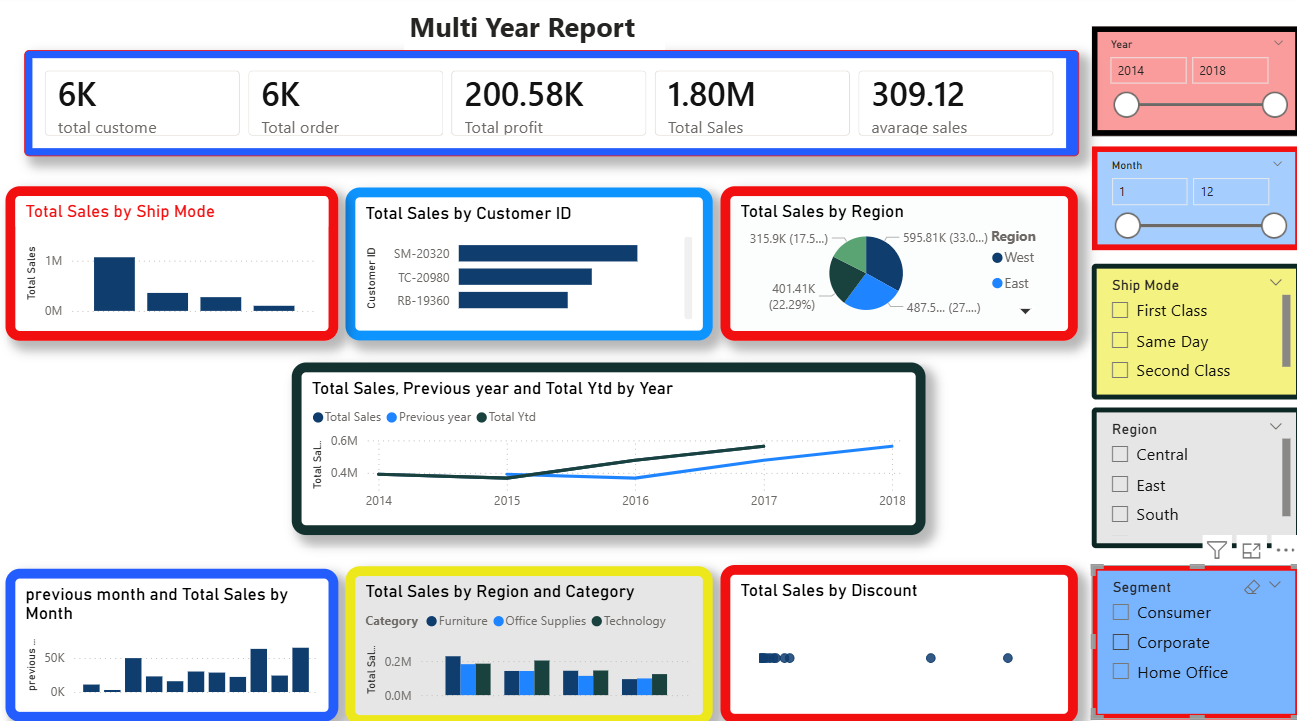

This screenshot's page, from the dashboard's own definition file:
{"tool":"powerbi","page":{"name":"Page 1","canvas":[1280,720],"ordinal":0},"visuals":[{"type":"cardVisual","fields":{"Data":["Fact Sales.total custome","Fact Sales.Total order","Fact Sales.Total profit","Fact Sales.Total Sales","Fact Sales.avarage sales"]},"box":[30.2,53.5,1031.9,104.3],"z":0},{"type":"slicer","fields":{"Values":["Dim Calendar.Year"]},"box":[1074.4,30.2,205.8,107],"z":1000},{"type":"slicer","fields":{"Values":["Dim Calendar.Month"]},"box":[1074.4,148.2,205.8,101.5],"z":2000},{"type":"slicer","fields":{"Values":["Dim-Custom.Region"]},"box":[1074.4,403.4,205.8,137.2],"z":3000},{"type":"slicer","fields":{"Values":["Dim-Custom.Segment"]},"box":[1074.4,557.1,205.8,150.9],"z":4000},{"type":"slicer","fields":{"Values":["Fact Sales.Ship Mode"]},"box":[1074.4,263.5,205.8,133.1],"z":5000},{"type":"textbox","box":[402.1,6.9,255.2,46.7],"z":6000},{"type":"lineChart","fields":{"Y":["Fact Sales.Total Sales","Fact Sales.Previous year","Fact Sales.Total Ytd"],"Category":["Dim Calendar.Date.Variation.Date Hierarchy.Year"]},"box":[292.3,359.5,620.2,168.8],"z":7000},{"type":"clusteredBarChart","fields":{"Category":["Dim-Custom.Customer ID"],"Y":["Fact Sales.Total Sales"]},"box":[344.4,188,359.5,149.6],"z":8000},{"type":"lineStackedColumnComboChart","fields":{"Category":["Dim Calendar.Date.Variation.Date Hierarchy.Month"],"Y":["Fact Sales.previous month"]},"box":[12.3,561.2,325.2,149.6],"z":9000},{"type":"clusteredColumnChart","fields":{"Category":["Dim-Custom.Region"],"Series":["Dim-Product.Category"],"Y":["Fact Sales.Total Sales"]},"box":[344.4,558.5,359.5,155.1],"z":10000},{"type":"columnChart","fields":{"Category":["Fact Sales.Ship Mode"],"Y":["Fact Sales.Total Sales"]},"box":[12.3,186.6,325.2,150.9],"z":11000},{"type":"scatterChart","fields":{"Category":["Fact Sales.Discount"],"X":["Fact Sales.Total Sales"]},"box":[712.2,557.1,349.9,155.1],"z":12000},{"type":"pieChart","fields":{"Category":["Dim-Custom.Region"],"Y":["Fact Sales.Total Sales"]},"box":[712.2,186.6,349.9,150.9],"z":13000}]}

Visuals, with their boxes in screenshot pixels (x1, y1, x2, y2), scaled from the page's 1280x720 canvas onto the 1297x721 screenshot:
cardVisual - Fact Sales.total custome x Fact Sales.Total order: 31/54/1076/158
slicer - Dim Calendar.Year: 1089/30/1296/137
slicer - Dim Calendar.Month: 1089/148/1296/250
slicer - Dim-Custom.Region: 1089/404/1296/541
slicer - Dim-Custom.Segment: 1089/558/1296/709
slicer - Fact Sales.Ship Mode: 1089/264/1296/397
textbox: 407/7/666/54
lineChart - Fact Sales.Total Sales x Fact Sales.Previous year: 296/360/925/529
clusteredBarChart - Dim-Custom.Customer ID x Fact Sales.Total Sales: 349/188/713/338
lineStackedColumnComboChart - Dim Calendar.Date.Variation.Date Hierarchy.Month x Fact Sales.previous month: 12/562/342/712
clusteredColumnChart - Dim-Custom.Region x Dim-Product.Category: 349/559/713/715
columnChart - Fact Sales.Ship Mode x Fact Sales.Total Sales: 12/187/342/338
scatterChart - Fact Sales.Discount x Fact Sales.Total Sales: 722/558/1076/713
pieChart - Dim-Custom.Region x Fact Sales.Total Sales: 722/187/1076/338
